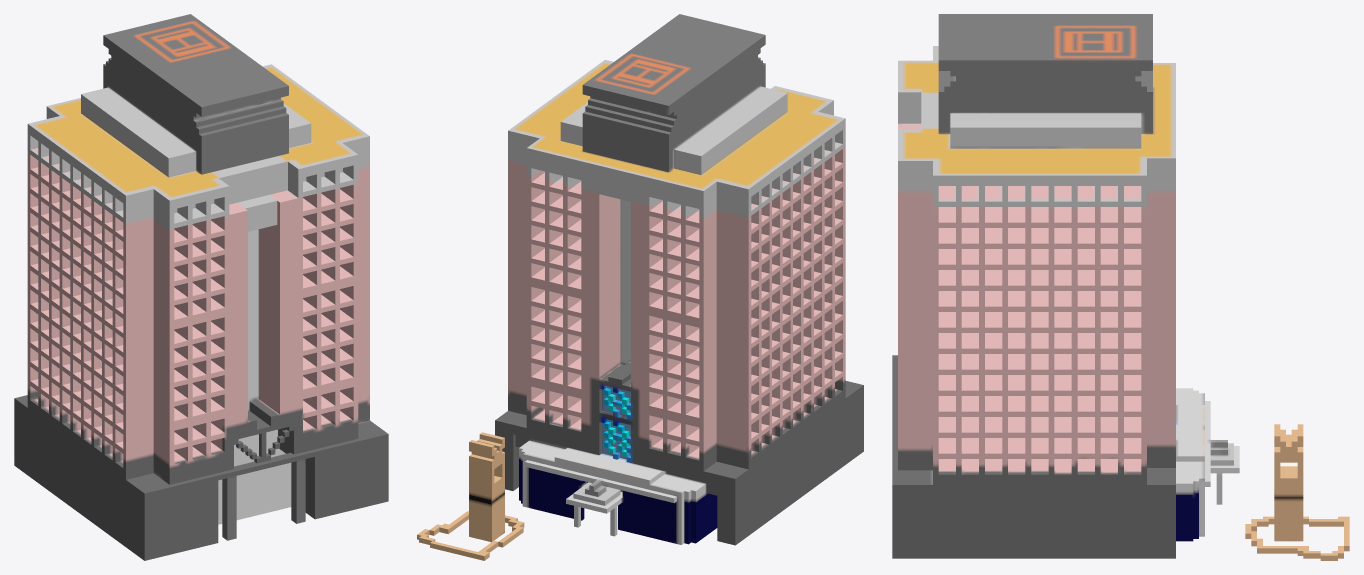
Rendered from kagoshimakentyou.glb.
The picture shows the model from 3 angles, left to right: view 1: azimuth 30°, elevation 25°; view 2: azimuth 150°, elevation 25°; view 3: azimuth 270°, elevation 25°; orthographic projection. The views are drawn at different scales.
Parts seen in each view (by area): view 1: kagoshimakentyou; view 2: kagoshimakentyou; view 3: kagoshimakentyou.
Part boxes in pixels (box(x1,y1,x2,y2)): kagoshimakentyou: box(14, 14, 388, 560); kagoshimakentyou: box(417, 14, 863, 560); kagoshimakentyou: box(892, 14, 1349, 560).
Size of the model in its own units: 1.08 by 1.74 by 1.58.
Materials: 1 (1 with a texture image).
